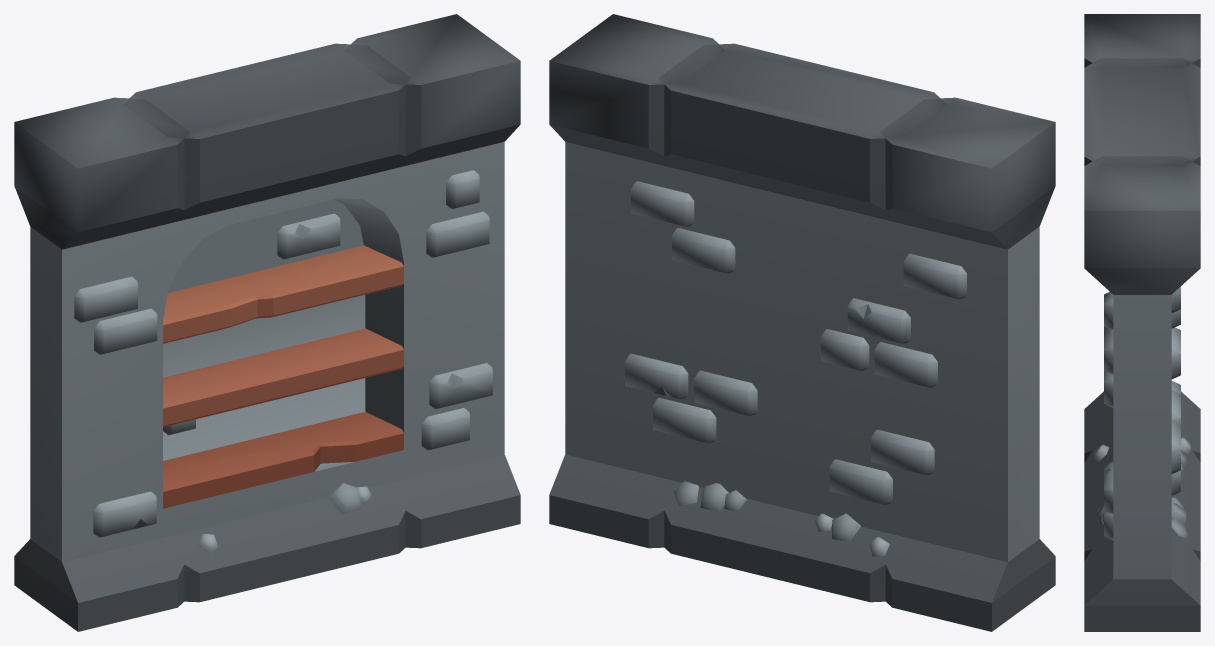
The model's file is cellar_wall2-optimized.glb.
3 renders of one model, left to right at view 1: azimuth 30°, elevation 25°; view 2: azimuth 150°, elevation 25°; view 3: azimuth 270°, elevation 25°, orthographic. The views are drawn at different scales.
Parts seen in each view (by area): view 1: wall_inset_shelves; view 2: wall_inset_shelves; view 3: wall_inset_shelves.
Boxes of the visible parts, <box> form: wall_inset_shelves: <box>14,14,520,631</box>; wall_inset_shelves: <box>549,14,1055,631</box>; wall_inset_shelves: <box>1084,14,1200,631</box>.
Bounding box in the file's own units: 4 × 4 × 1.
Materials: 1 (1 with a texture image).
